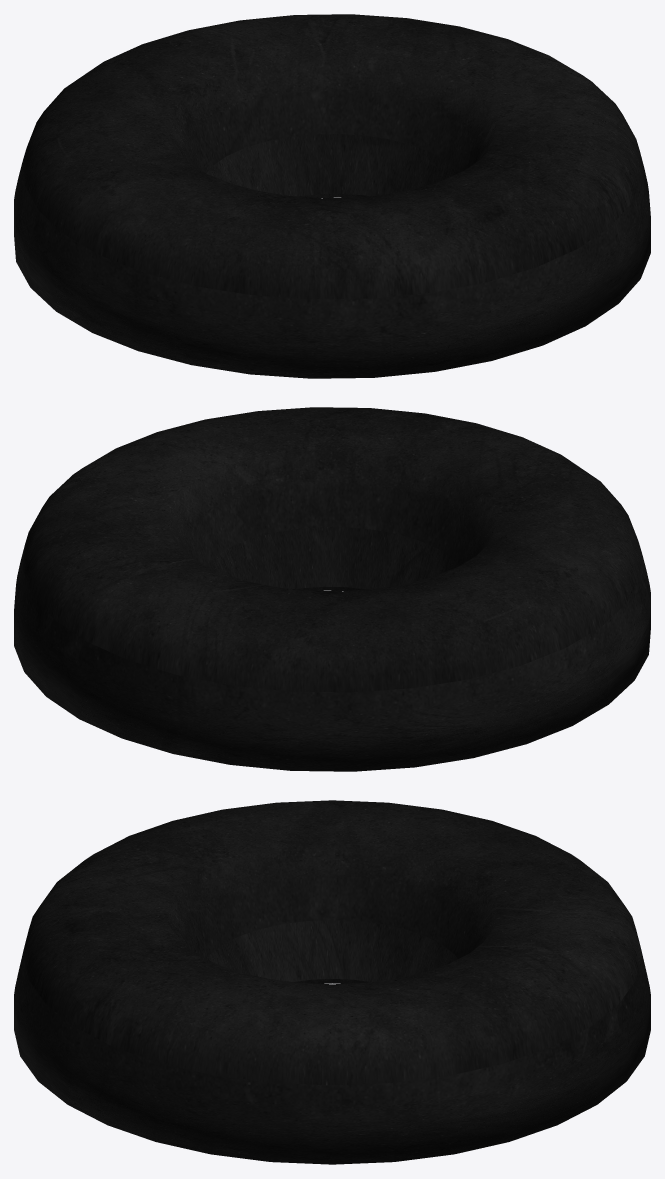
The model's file is head_ring_middle.fbx.
The picture shows the model from 3 angles, top to bottom: view 1: azimuth 30°, elevation 25°; view 2: azimuth 150°, elevation 25°; view 3: azimuth 270°, elevation 25°; orthographic projection.
Parts seen in each view (by area): view 1: head_ring_middle; view 2: head_ring_middle; view 3: head_ring_middle.
Boxes of the visible parts, bbox=[...] form: head_ring_middle: bbox=[14, 14, 650, 378]; head_ring_middle: bbox=[14, 407, 650, 771]; head_ring_middle: bbox=[14, 800, 650, 1164].
Bounding box in the file's own units: 20.36 × 4.34 × 20.36.
1 material, 1 textured.
